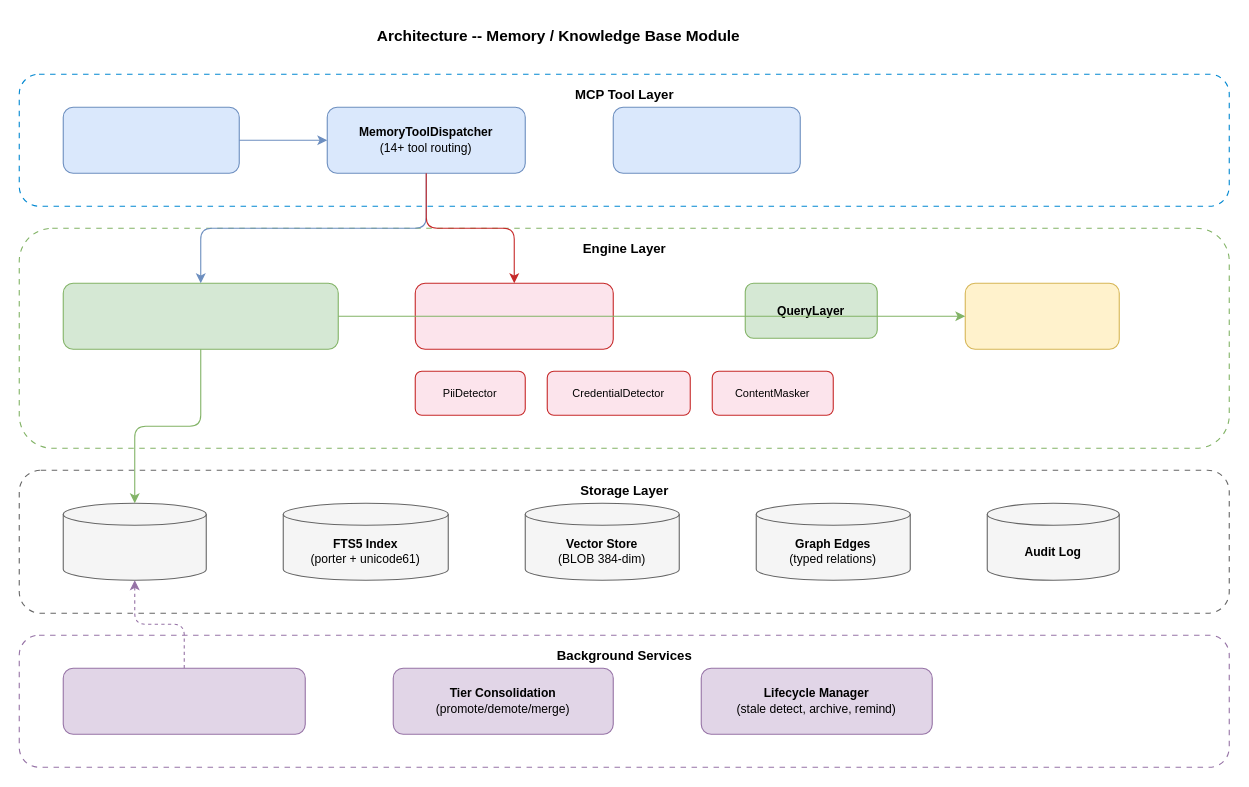
Some shapes in this 1249 by 787 pixel diagram are drawn without their labels. The centre of each missing label's shape, as x and y in pixels:
MaskingMiddleware (Pipeline orchestrator): [513,315]
MemoryEngine (Facade: CRUD, Search, Graph, Session): [200,315]
MemoryModule (IModule lifecycle): [150,139]
ONNX Runtime (embedding gen): [1041,315]
ScopePromotionService (hourly scan + criteria eval): [183,700]
SQLite DB (WAL mode): [134,541]
ToolDefinitions (T1/T2/T3 + aliases): [706,139]
